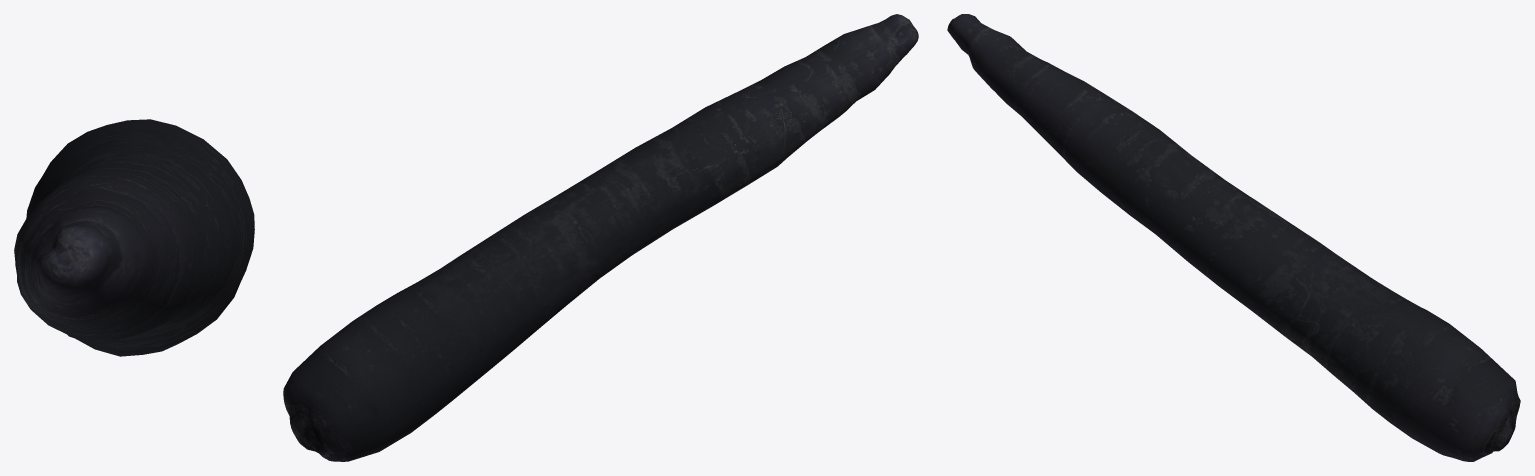
The model's file is BlackVegetableCarrot.fbx.
3 views of the same model, side by side, from view 1: azimuth 30°, elevation 25°; view 2: azimuth 150°, elevation 25°; view 3: azimuth 270°, elevation 25° (orthographic). The views are drawn at different scales.
Visible parts, largest first — view 1: Carrot; view 2: Carrot; view 3: Carrot.
Part boxes in pixels (bbox=[...]): Carrot: bbox=[14, 119, 254, 356]; Carrot: bbox=[283, 14, 918, 461]; Carrot: bbox=[947, 14, 1520, 461].
Size of the model in its own units: 0.0993 by 0.1424 by 0.0835.
1 material, 1 textured.
